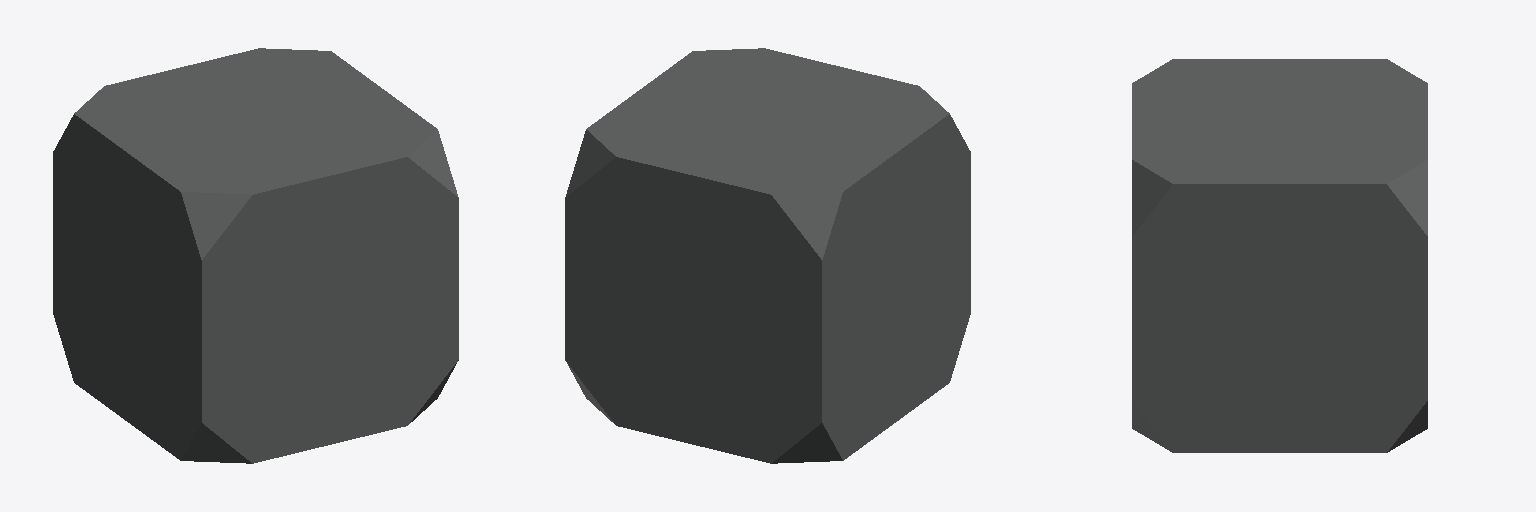
The picture shows the model from 3 angles: view 1: azimuth 30°, elevation 25°; view 2: azimuth 150°, elevation 25°; view 3: azimuth 270°, elevation 25°; orthographic projection.
Parts seen in each view (by area): view 1: Cube; view 2: Cube; view 3: Cube.
Part boxes in pixels (x1,y1,x2,y2): Cube: (53, 48, 458, 463); Cube: (565, 48, 970, 463); Cube: (1132, 59, 1427, 452).
Bounding box in the file's own units: 1 × 1 × 1.
1 materials, 1 textured.